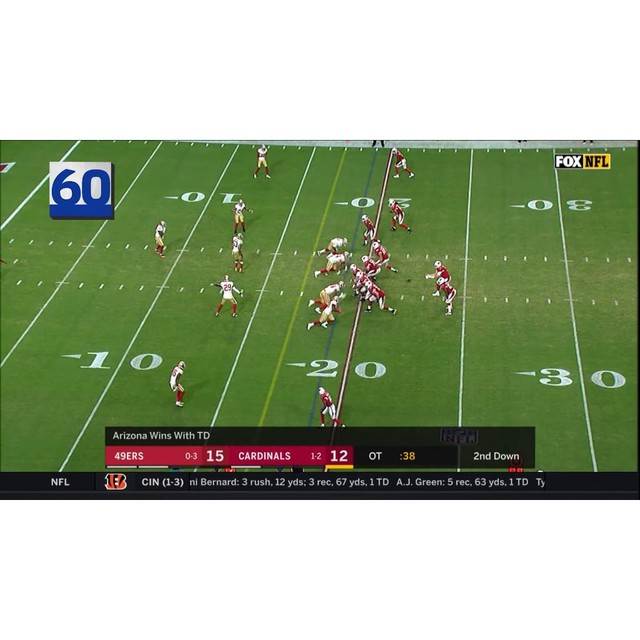american-football-player: (211, 273, 243, 317), (306, 298, 342, 330), (308, 281, 344, 312), (318, 386, 344, 428), (364, 283, 397, 314), (314, 251, 351, 278), (426, 260, 451, 298), (371, 240, 398, 274), (169, 360, 187, 408), (388, 198, 411, 233), (436, 277, 456, 316), (391, 149, 414, 179), (315, 237, 349, 257), (232, 199, 251, 233), (253, 143, 270, 179), (231, 232, 244, 272), (153, 220, 167, 257), (361, 215, 377, 247), (361, 255, 382, 279)
